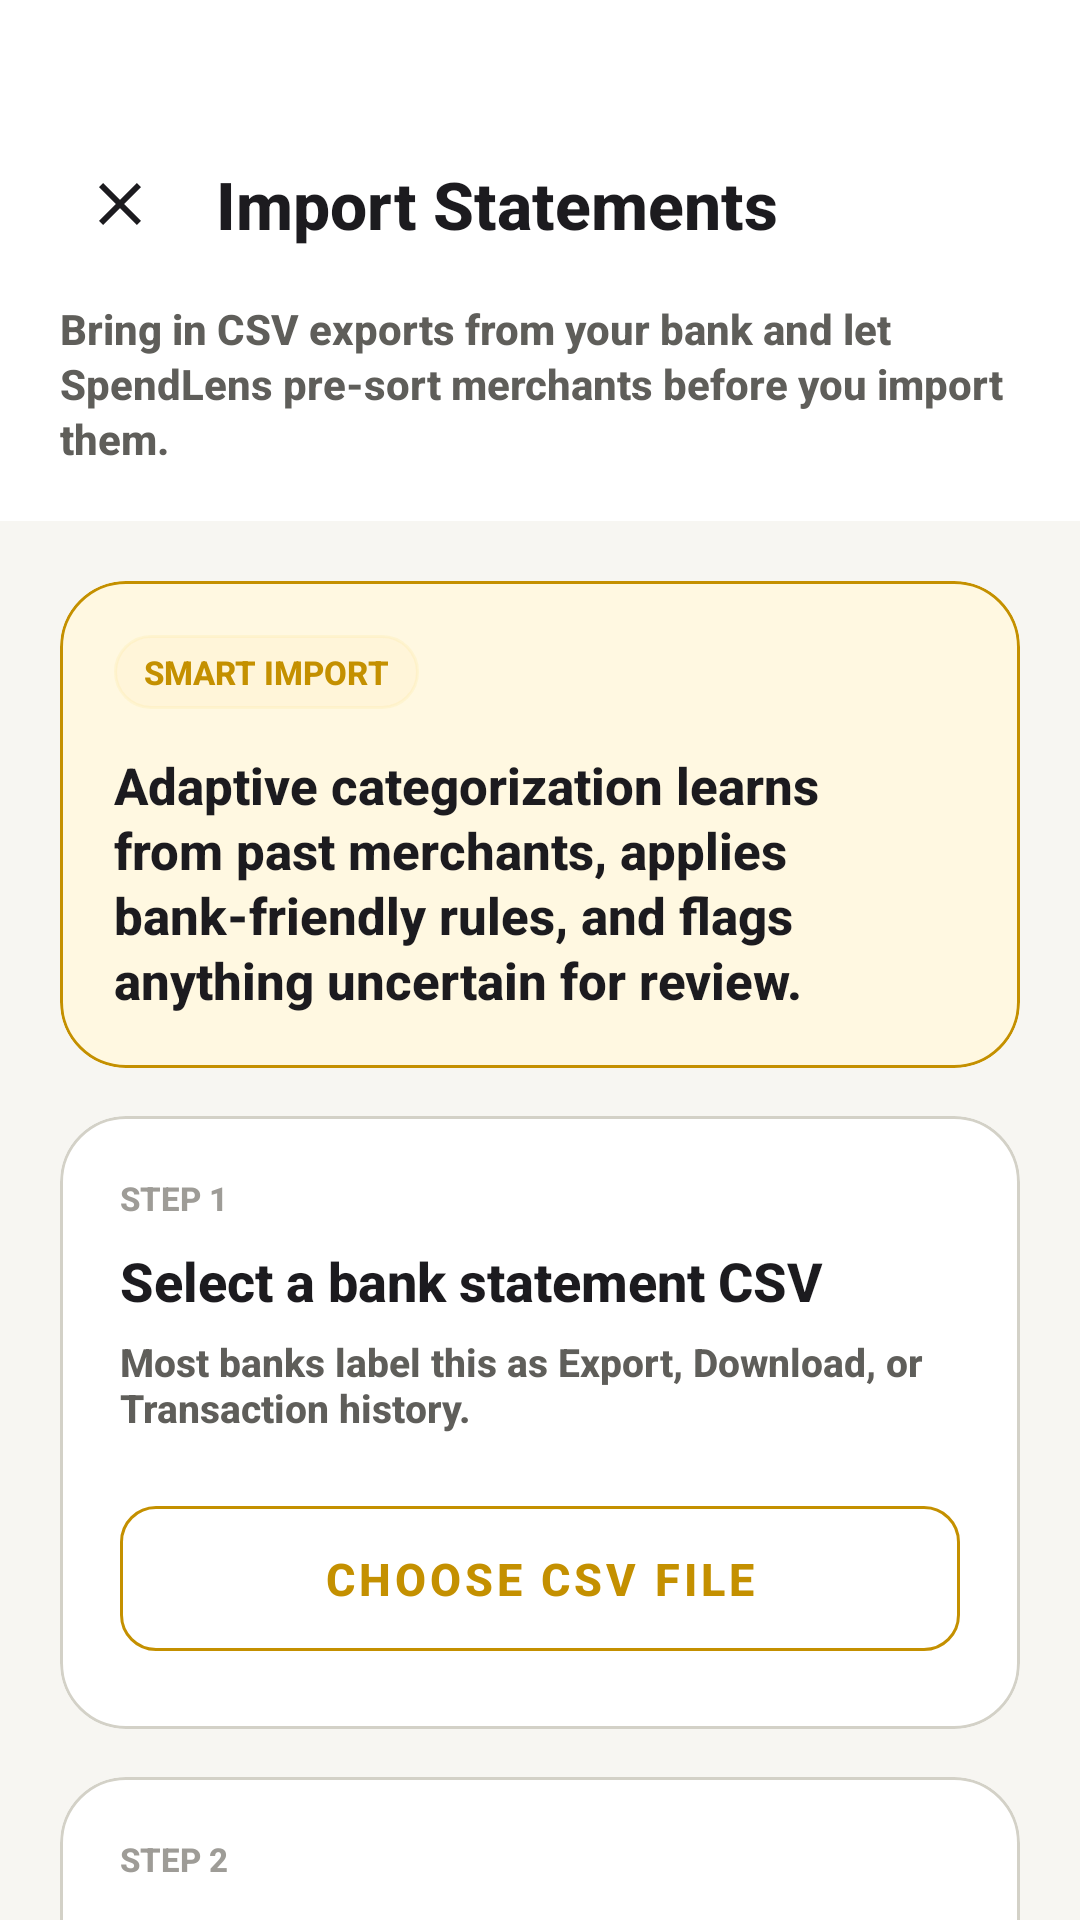

Where to tap for icons on this 1080 × 1920 app screen, as point (x, y):
close: point (120, 204)
